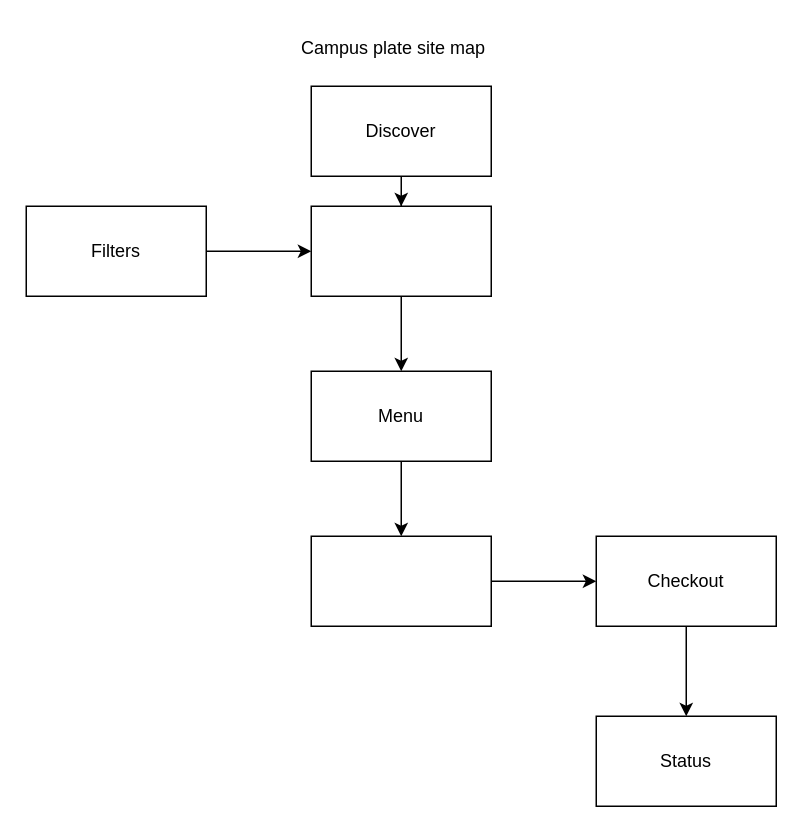
The diagram is 803 pixels wide and 833 high, and some of its shapes have lost their labels. The centre of each missing label's shape, as x and y in pixels:
Cart: (400,580)
Results: (400,250)
